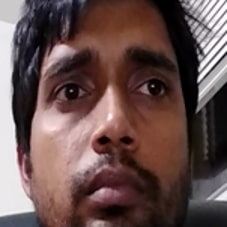drowsy: (42, 40, 179, 211)
